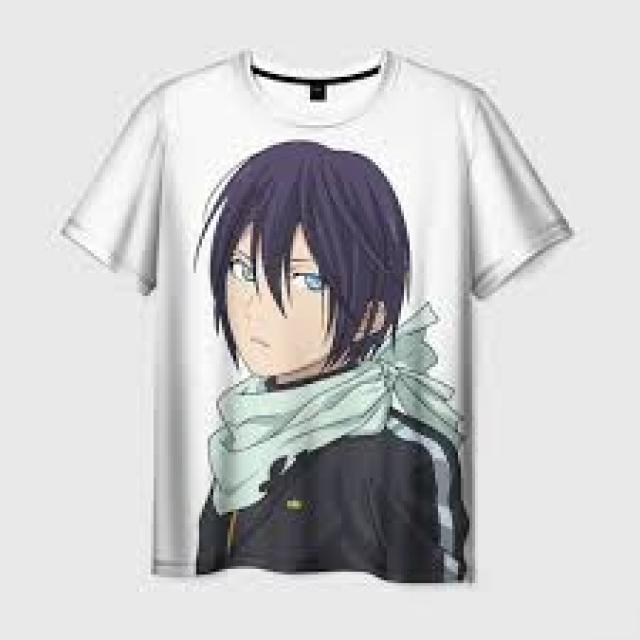Shirt: (44, 31, 586, 598)
